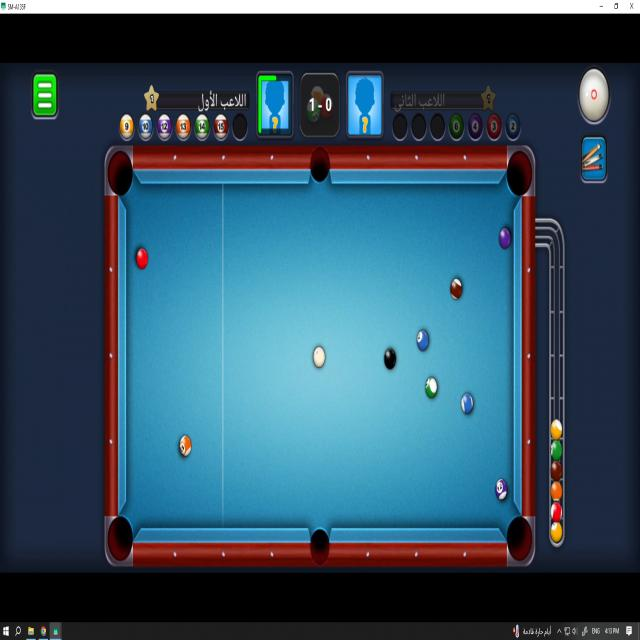object_ball: (417, 329, 429, 352), (450, 278, 462, 300), (384, 348, 396, 369), (495, 479, 507, 500), (136, 248, 148, 269), (425, 377, 437, 398), (499, 229, 511, 249), (180, 435, 191, 456), (461, 393, 472, 414)
white_cue_ball: (313, 347, 325, 367)
